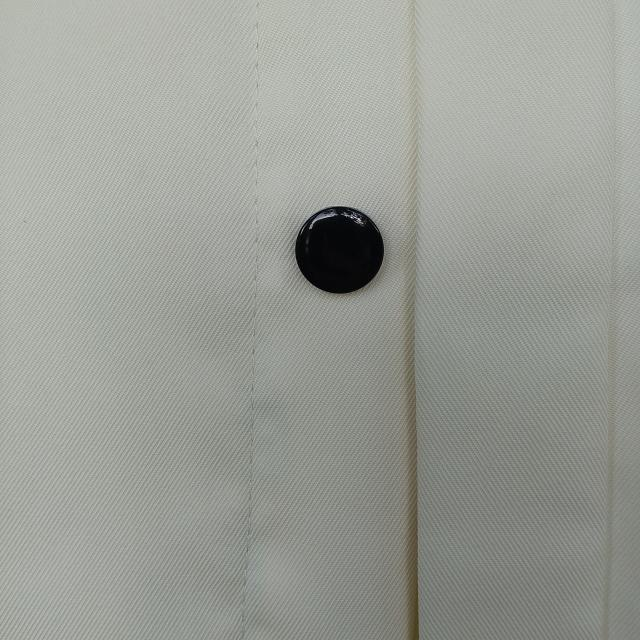education_male_uniform: (155, 76, 603, 512)
